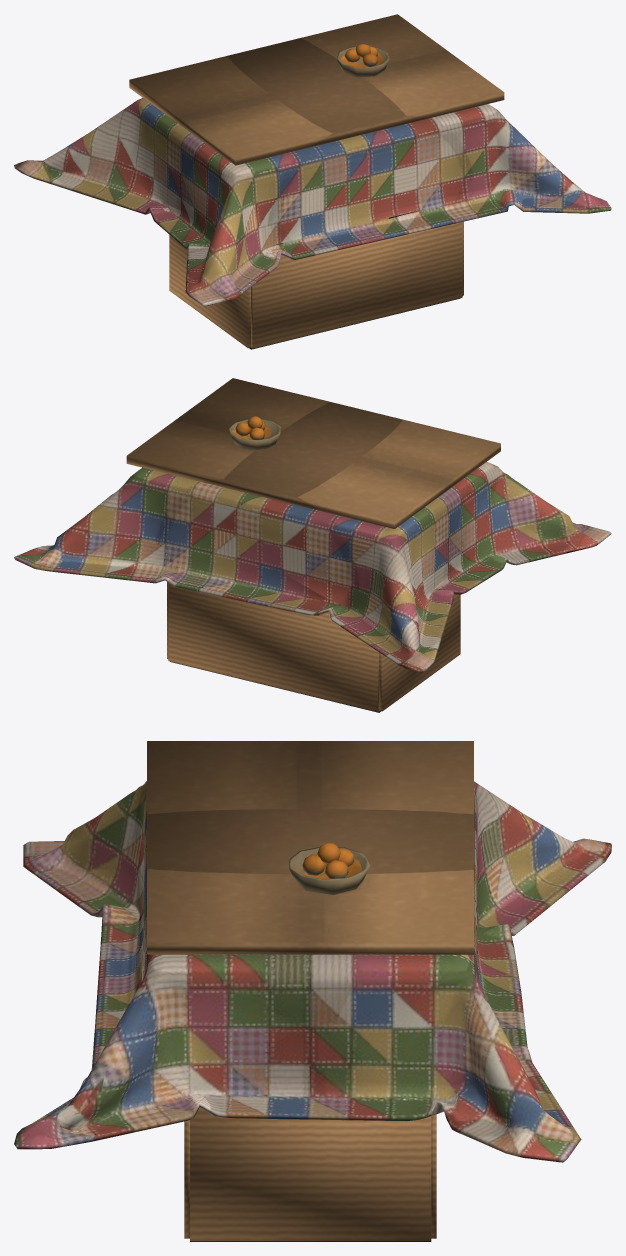
The model's file is kotatsu_patch.glb.
3 renders of one model, top to bottom at view 1: azimuth 30°, elevation 25°; view 2: azimuth 150°, elevation 25°; view 3: azimuth 270°, elevation 25°, orthographic. The views are drawn at different scales.
Parts seen in each view (by area): view 1: prop_kotatsu_patch_felt, prop_kotatsu_patch_wood; view 2: prop_kotatsu_patch_felt, prop_kotatsu_patch_wood; view 3: prop_kotatsu_patch_felt, prop_kotatsu_patch_wood.
Part boxes in pixels (left/top/right/bottom): prop_kotatsu_patch_felt: left=14, top=43, right=611, bottom=349; prop_kotatsu_patch_wood: left=129, top=14, right=504, bottom=348; prop_kotatsu_patch_felt: left=14, top=416, right=611, bottom=712; prop_kotatsu_patch_wood: left=126, top=378, right=500, bottom=711; prop_kotatsu_patch_felt: left=14, top=781, right=611, bottom=1241; prop_kotatsu_patch_wood: left=147, top=741, right=473, bottom=1240.
Size of the model in its own units: 4.04 by 2.12 by 3.2.
3 materials, 3 textured.
